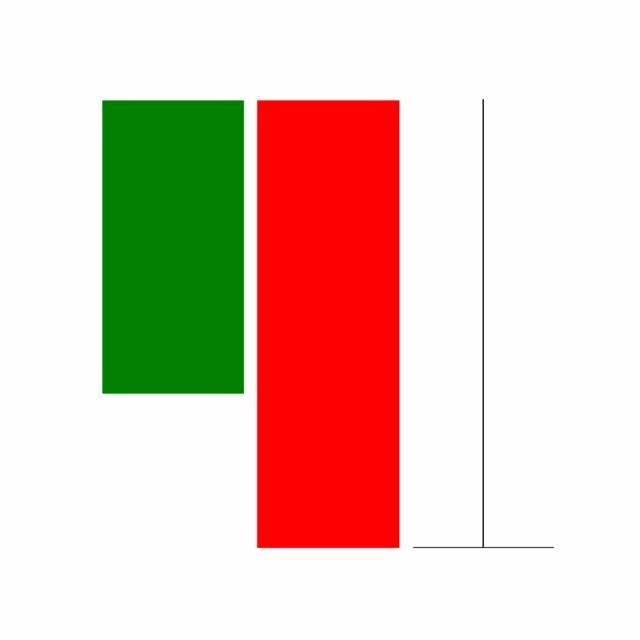Gravestone Doji: (406, 95, 562, 553)
